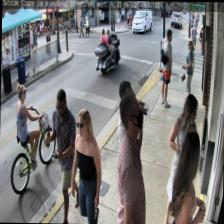person: (42, 88, 81, 223), (162, 93, 197, 224), (113, 90, 146, 224), (70, 108, 102, 223), (168, 130, 207, 224), (116, 80, 138, 208), (14, 83, 40, 162), (158, 27, 172, 106), (180, 40, 194, 100)
